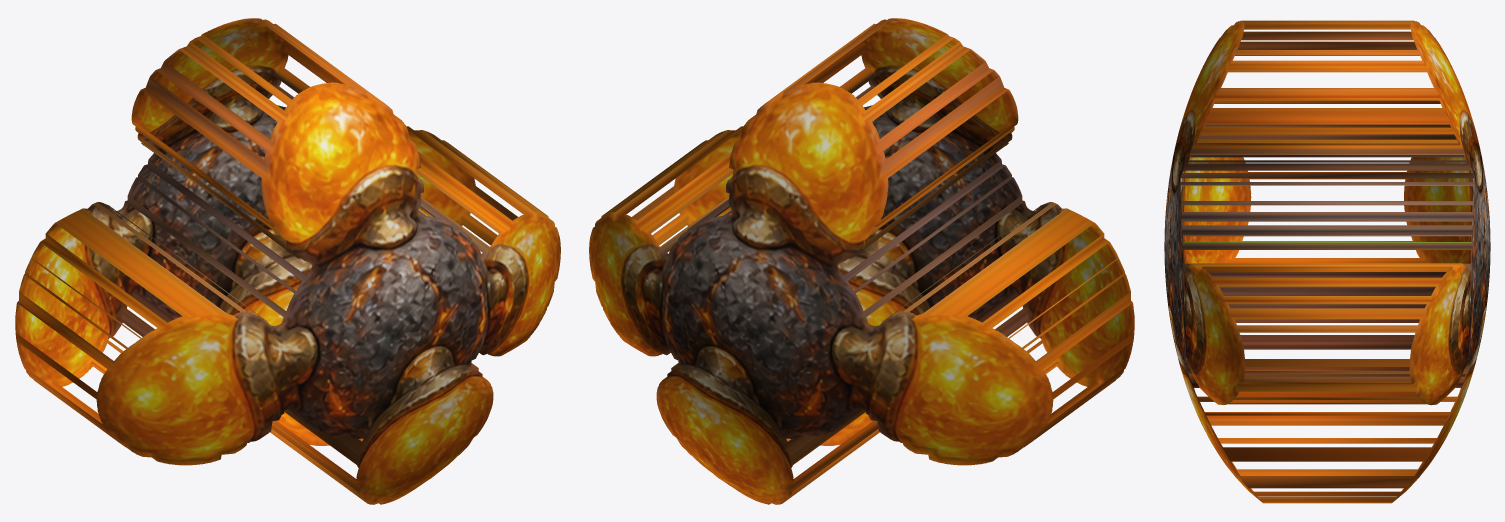
The picture shows the model from 3 angles, left to right: view 1: azimuth 30°, elevation 25°; view 2: azimuth 150°, elevation 25°; view 3: azimuth 270°, elevation 25°; orthographic projection. The views are drawn at different scales.
Parts seen in each view (by area): view 1: matter:1; view 2: matter:1; view 3: matter:1.
Boxes of the visible parts, left/top/right/bottom form: matter:1: left=15, top=18, right=560, bottom=504; matter:1: left=589, top=18, right=1134, bottom=504; matter:1: left=1164, top=20, right=1490, bottom=503.
Size of the model in its own units: 1.05 by 0.9545 by 0.66.
Materials: 1 (1 with a texture image).
